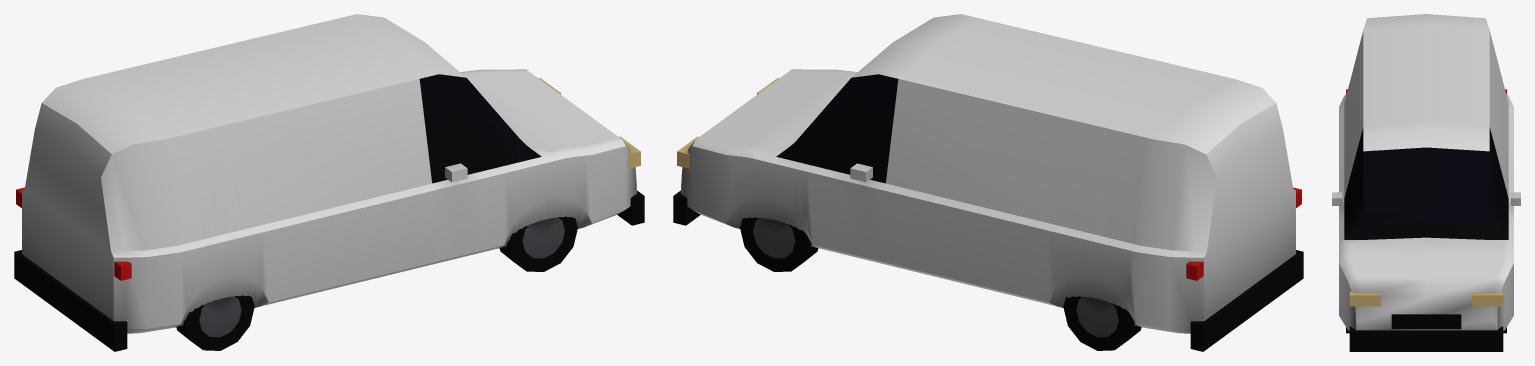
File: van.glb
3 renders of one model, left to right at view 1: azimuth 30°, elevation 25°; view 2: azimuth 150°, elevation 25°; view 3: azimuth 270°, elevation 25°, orthographic. The views are drawn at different scales.
Parts seen in each view (by area): view 1: paint, detail; view 2: paint, detail; view 3: paint, detail.
Part boxes in pixels (left/top/right/bottom): paint: left=22, top=14, right=636, bottom=333; detail: left=14, top=74, right=644, bottom=351; paint: left=681, top=14, right=1295, bottom=333; detail: left=673, top=74, right=1303, bottom=351; paint: left=1332, top=14, right=1520, bottom=331; detail: left=1344, top=89, right=1508, bottom=351.
Size of the model in its own units: 1.79 by 0.7062 by 0.7194.
